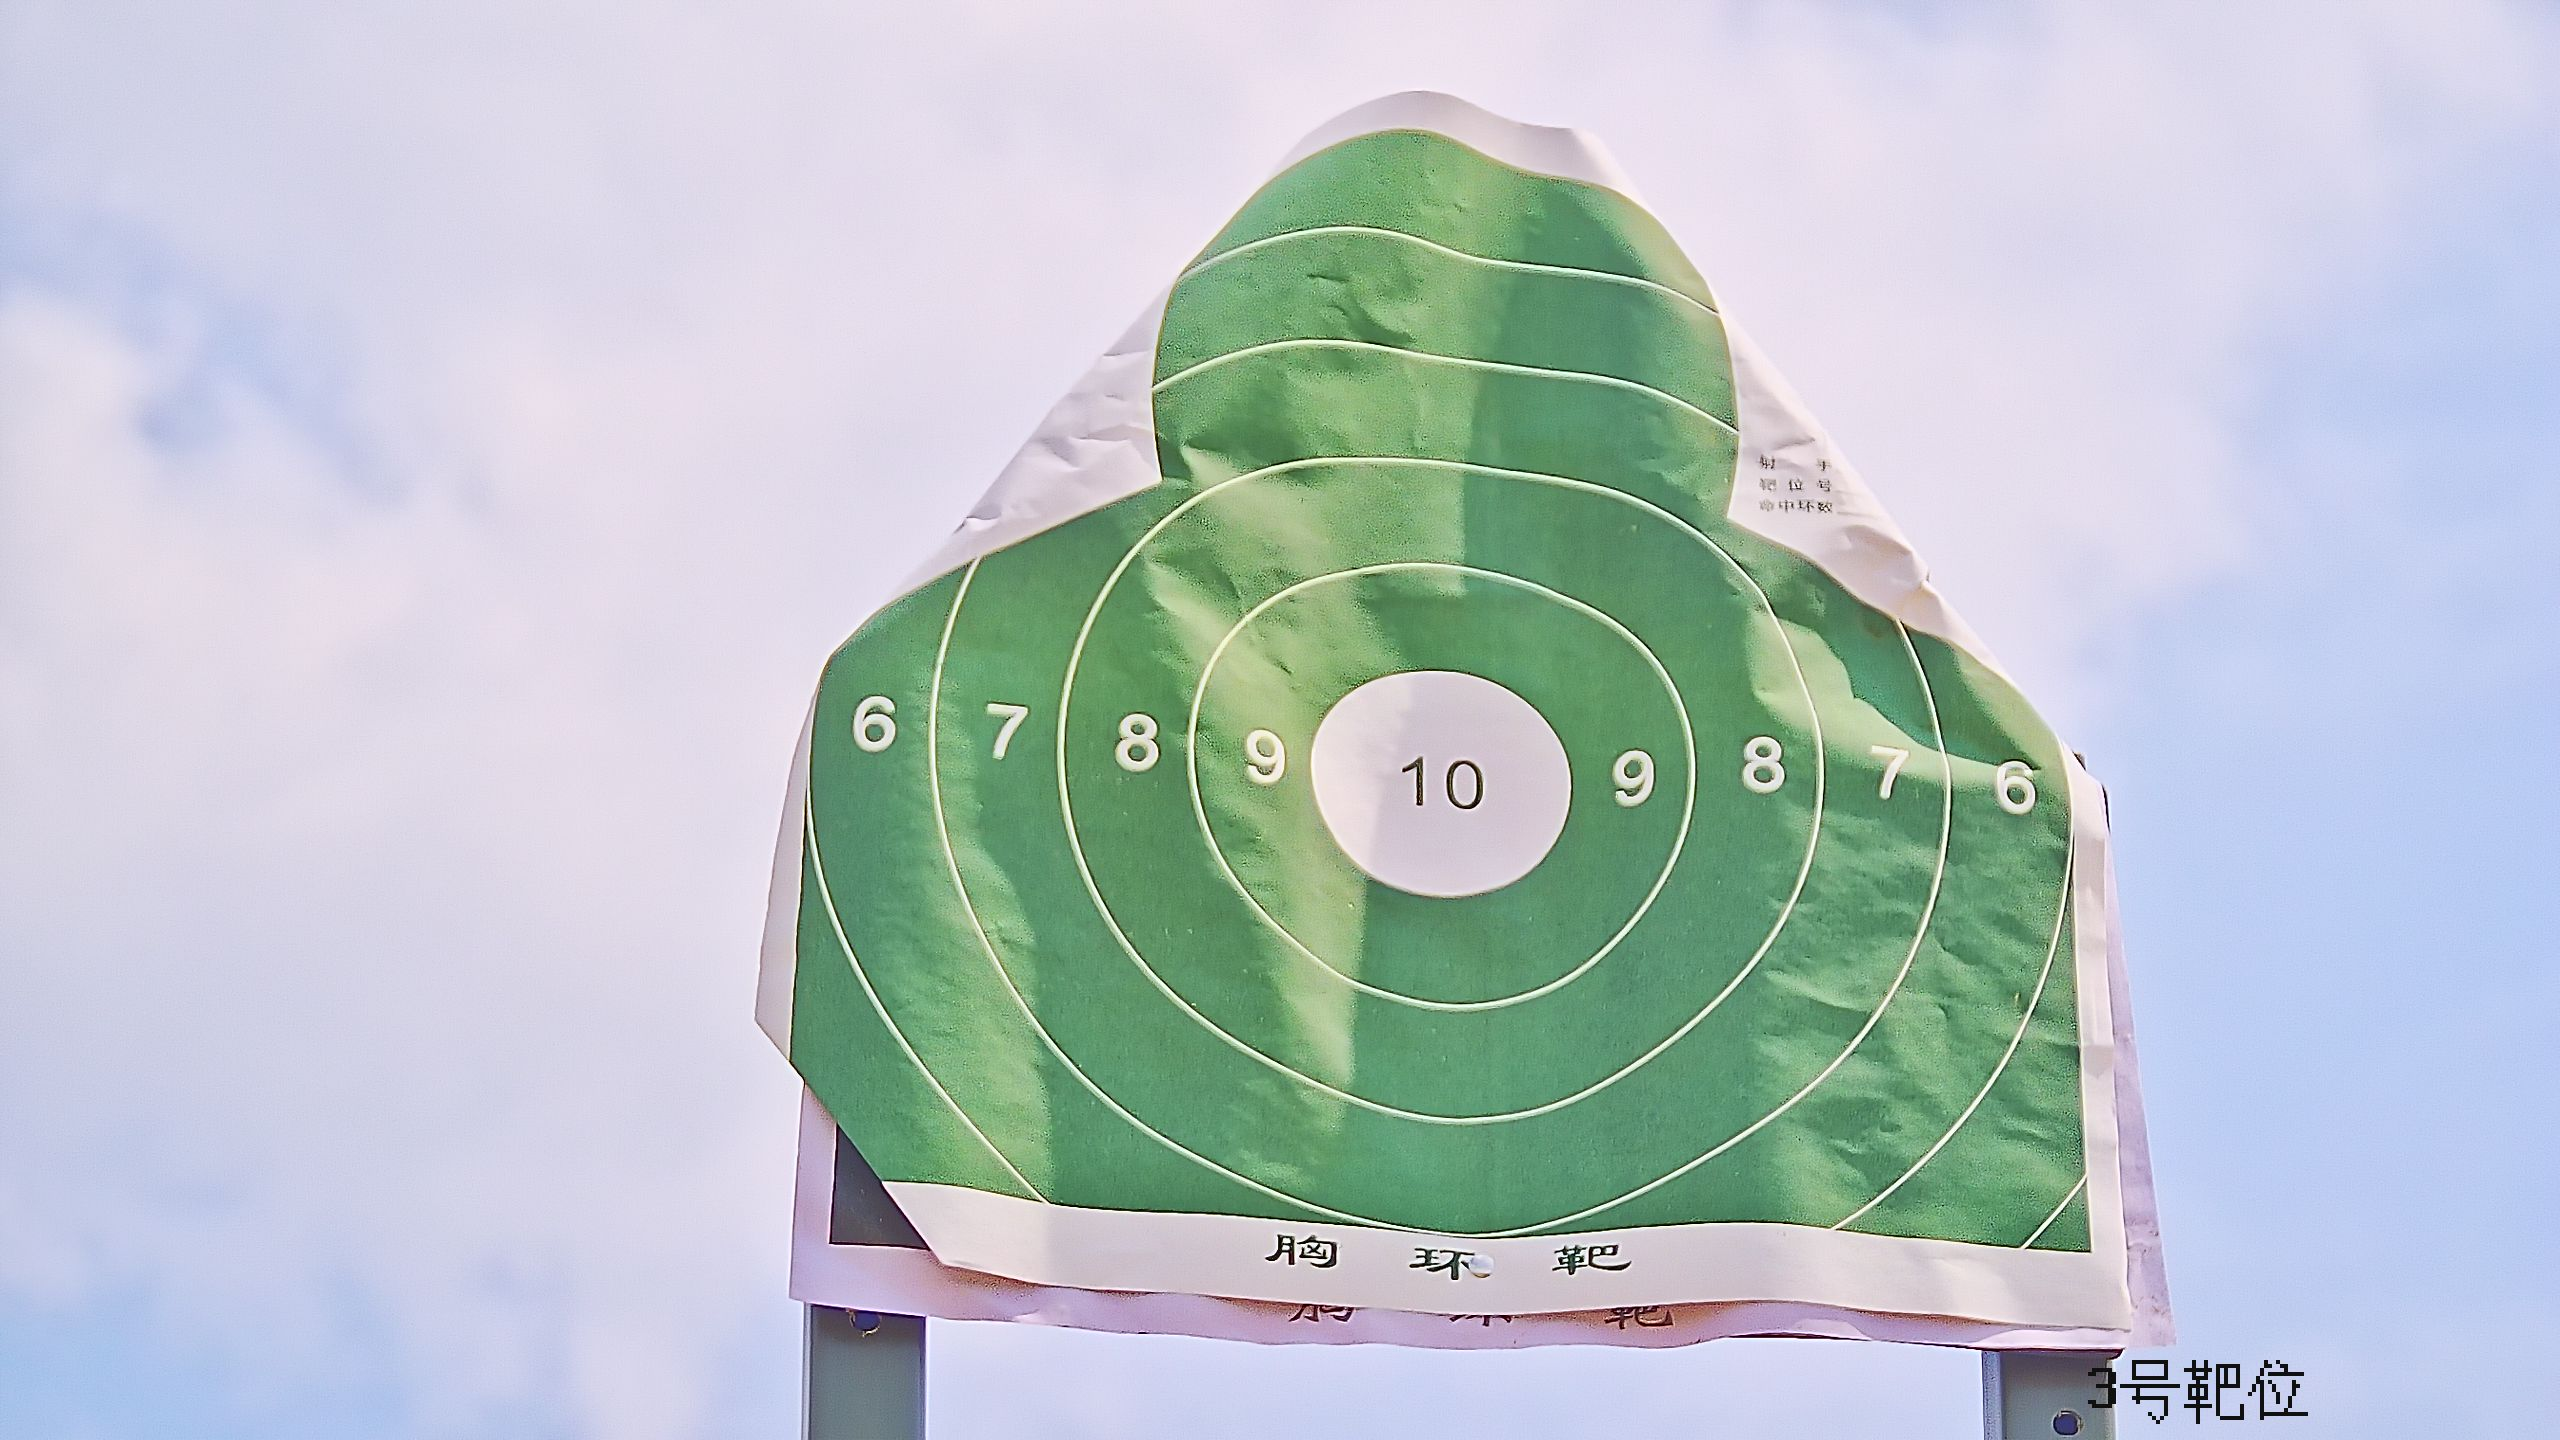kernel: (1431, 784, 1442, 789)
target: (782, 132, 2098, 1257)
ten: (1310, 666, 1572, 902)
